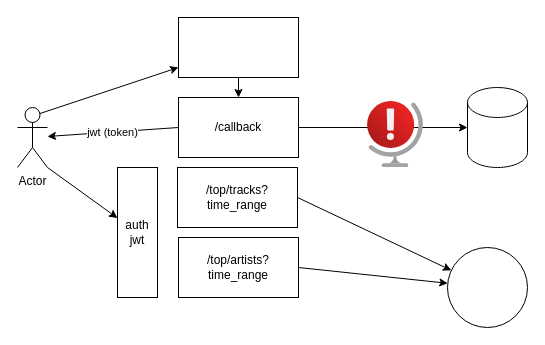
This 545x345 diagram has some shape labels left out. Each missing label, with the box of its shape:
DB: (466, 86, 528, 168)
OAUTH flow spotify: (178, 16, 298, 78)
spotify: (446, 246, 528, 328)
